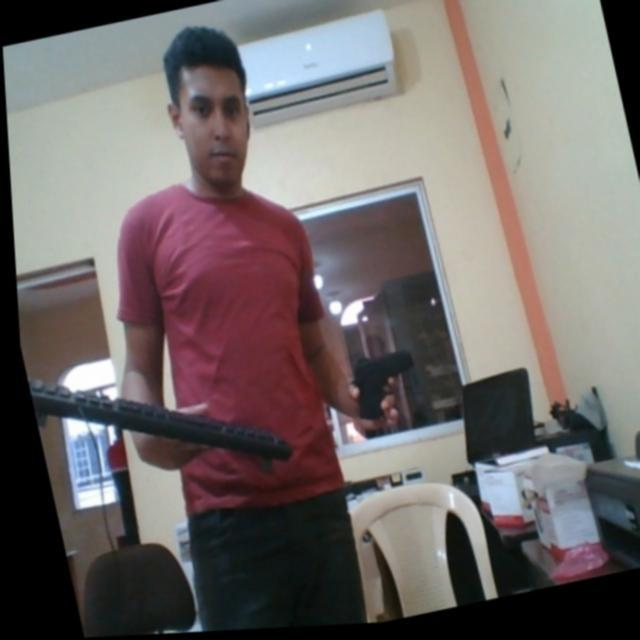weapon: (334, 344, 420, 432)
